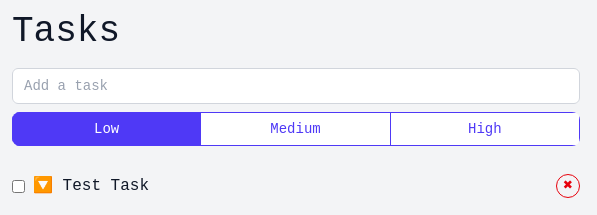
AllTasks.vue › removes a task when the remove button is clicked
Step 1. Click the button with id "btnRemoveTask" → {"x": 568, "y": 186}, box [556,174,580,198]
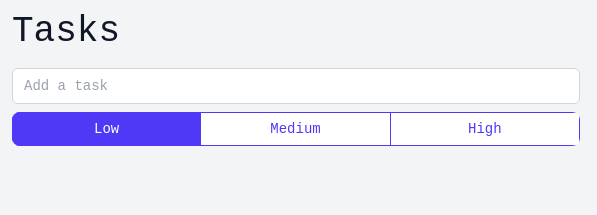
Now no list items are shown
